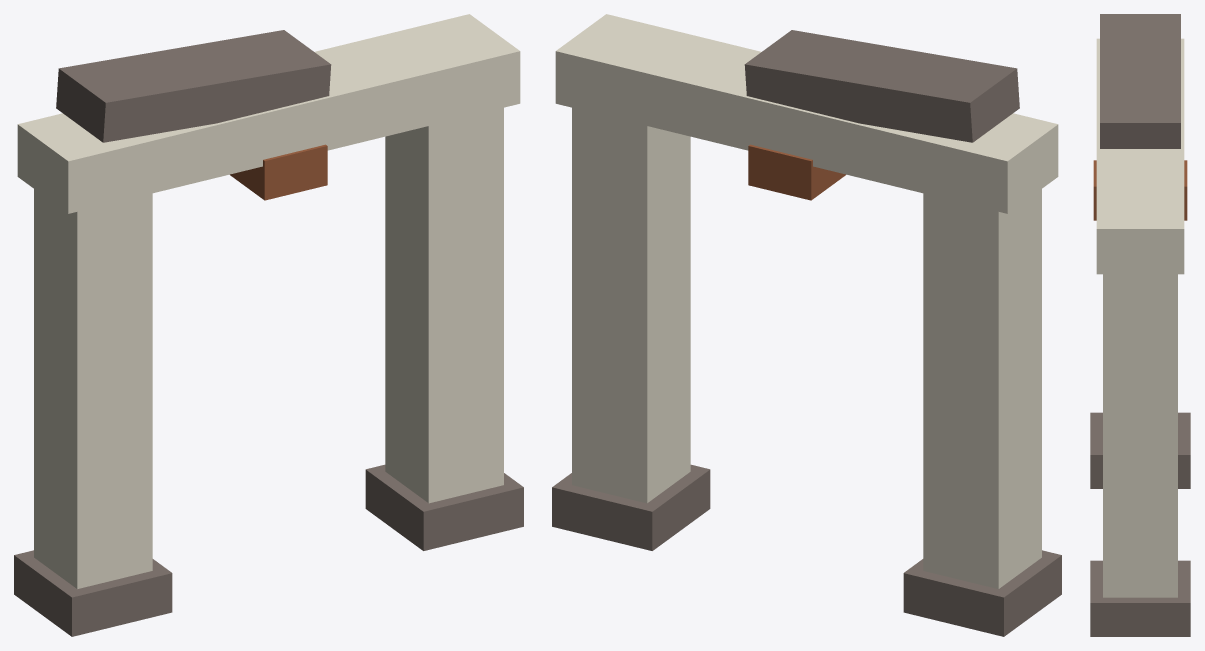
Rendered from ruin_arch.fbx.
The picture shows the model from 3 angles, left to right: view 1: azimuth 30°, elevation 25°; view 2: azimuth 150°, elevation 25°; view 3: azimuth 270°, elevation 25°; orthographic projection. The views are drawn at different scales.
Parts seen in each view (by area): view 1: ruin_arch; view 2: ruin_arch; view 3: ruin_arch.
Boxes of the visible parts, left/top/right/bottom form: ruin_arch: left=14, top=14, right=523, bottom=636; ruin_arch: left=552, top=14, right=1061, bottom=636; ruin_arch: left=1090, top=14, right=1190, bottom=636.
Bounding box in the file's own units: 3.6 × 3.96 × 0.8.
